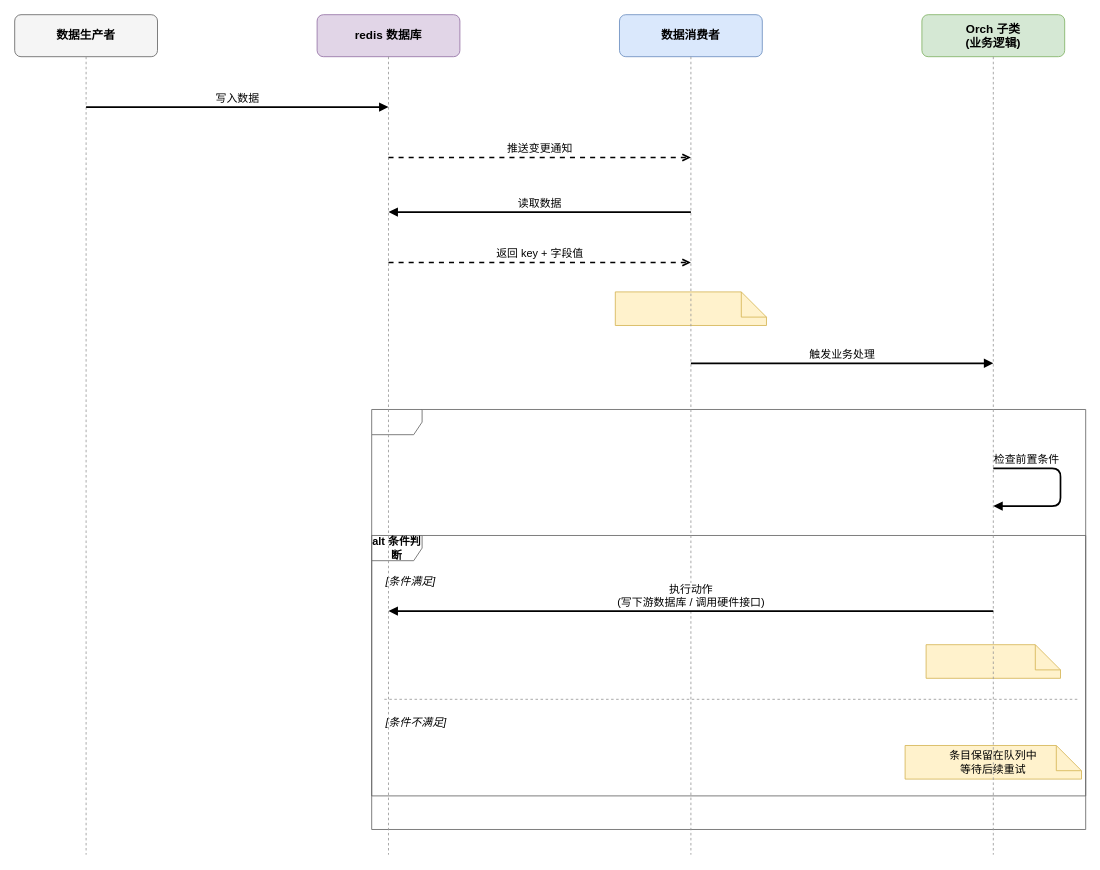
This 1100x870 diagram has some shape labels left out. Here are the shapes that lost their labels. From the top down, the box of each, then its label:
(614, 291, 766, 326): 放入待处理队列
(371, 409, 1086, 830): loop 遍历待处理队列
(925, 644, 1060, 678): 条目出队
